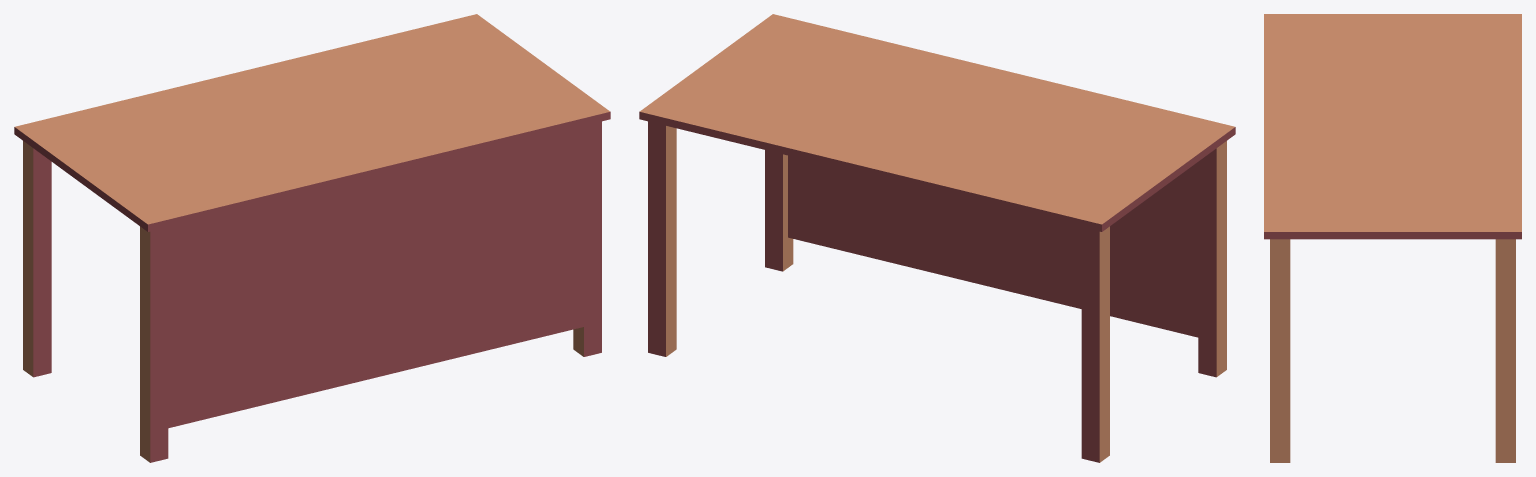
Rendered from desk.gltf.
The picture shows the model from 3 angles, left to right: view 1: azimuth 30°, elevation 25°; view 2: azimuth 150°, elevation 25°; view 3: azimuth 270°, elevation 25°; orthographic projection. The views are drawn at different scales.
Visible parts, largest first — view 1: BackLegs, Top, LeftLeg; view 2: Top, BackLegs, LeftLeg, RightLeg; view 3: Top, BackLegs, RightLeg.
Boxes of the visible parts, bbox=[...] form: BackLegs: bbox=[140, 121, 601, 462]; Top: bbox=[14, 14, 610, 231]; LeftLeg: bbox=[23, 141, 51, 377]; Top: bbox=[639, 14, 1235, 231]; BackLegs: bbox=[765, 141, 1226, 377]; LeftLeg: bbox=[1081, 226, 1109, 462]; RightLeg: bbox=[648, 121, 676, 356]; Top: bbox=[1264, 14, 1521, 239]; BackLegs: bbox=[1270, 239, 1290, 462]; RightLeg: bbox=[1495, 239, 1515, 462].
Bounding box in the file's own units: 2 × 1 × 1.
1 material, 1 textured.
